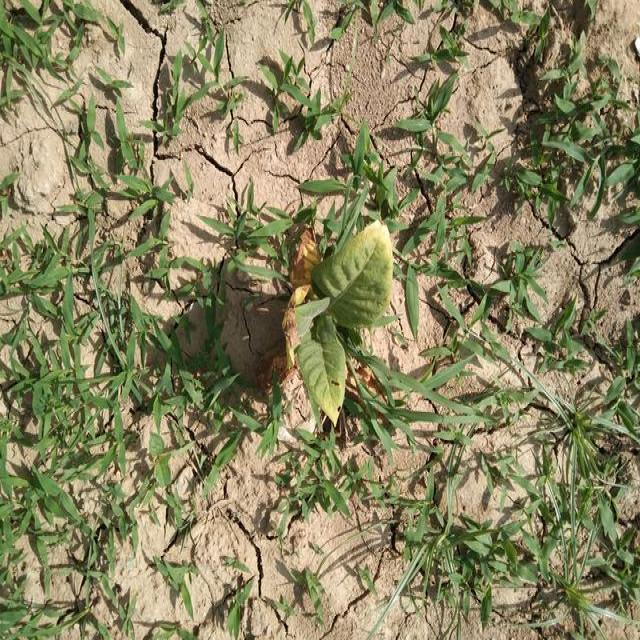crop: (275, 207, 401, 429)
